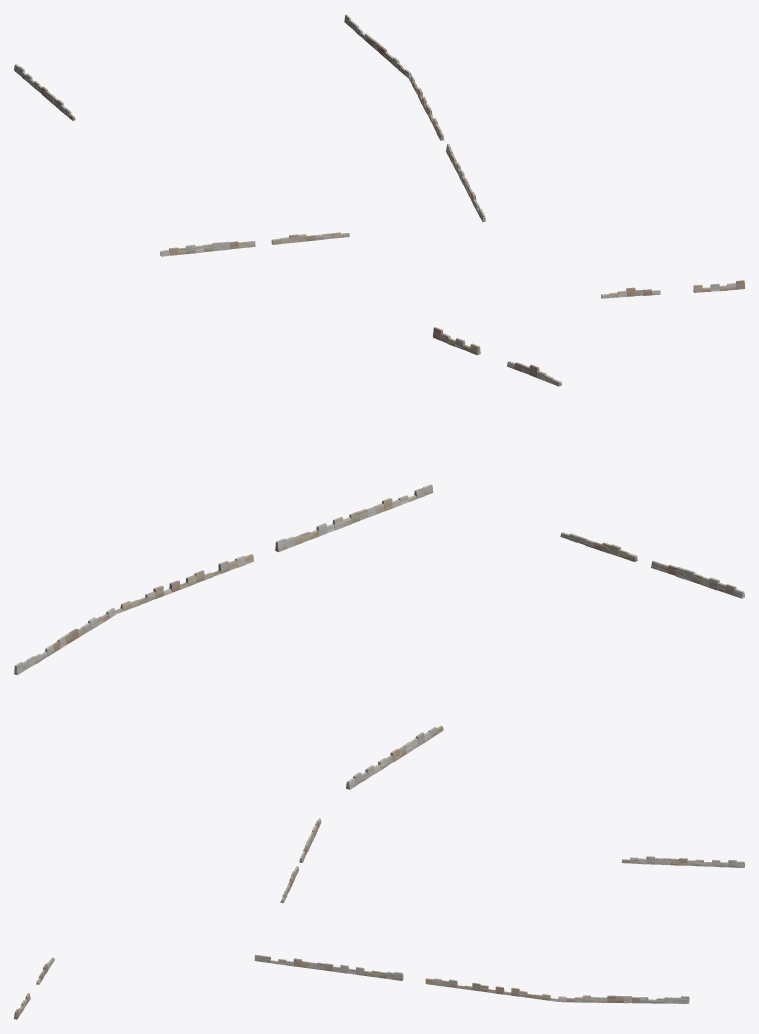
The model's file is farm_16_24_mid.glb.
3 renders of one model, top to bottom at view 1: azimuth 30°, elevation 25°; view 2: azimuth 150°, elevation 25°; view 3: azimuth 270°, elevation 25°, orthographic. The views are drawn at different scales.
Visible parts, largest first — view 1: geometry_0; view 2: geometry_0; view 3: geometry_0.
Part boxes in pixels (<box>): geometry_0: <box>14,14,744,298</box>; geometry_0: <box>14,327,744,789</box>; geometry_0: <box>14,818,744,1019</box>.
Size of the model in its own units: 85.36 by 3.62 by 142.
